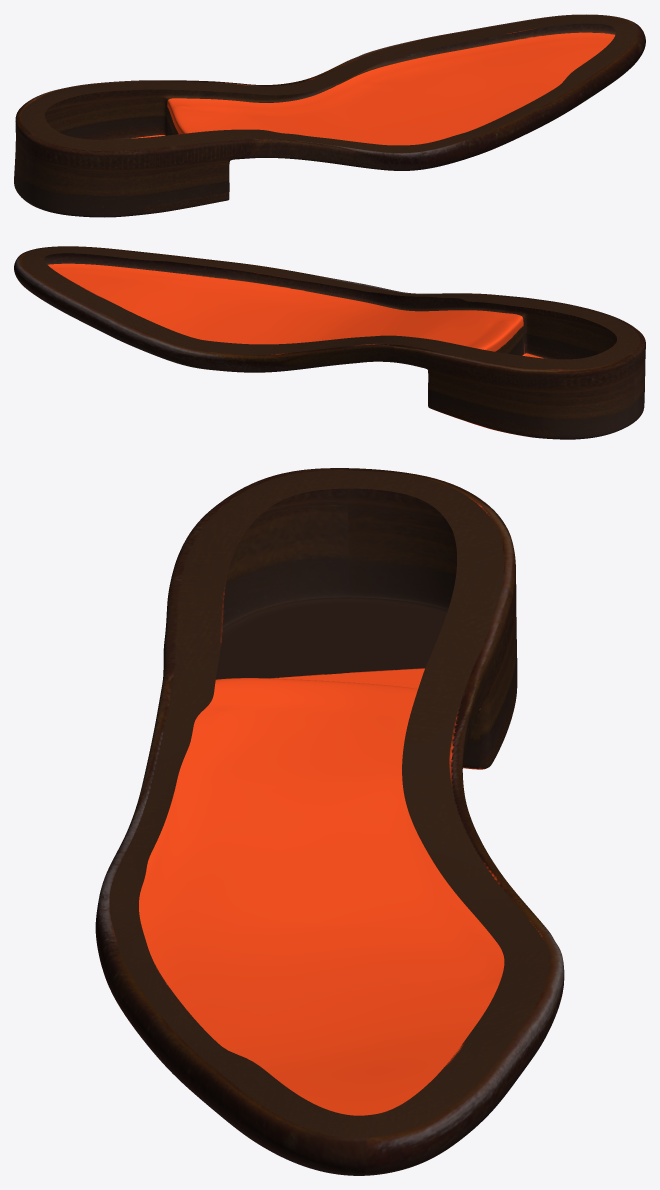
Rendered from mccr17736_fondo_smussato.glb.
The picture shows the model from 3 angles, top to bottom: view 1: azimuth 30°, elevation 25°; view 2: azimuth 150°, elevation 25°; view 3: azimuth 270°, elevation 25°; orthographic projection. The views are drawn at different scales.
Parts seen in each view (by area): view 1: fondo; view 2: fondo; view 3: fondo.
Part boxes in pixels (left/top/right/bottom): fondo: left=14, top=14, right=645, bottom=217; fondo: left=14, top=246, right=645, bottom=439; fondo: left=95, top=468, right=564, bottom=1175.
Bounding box in the file's own units: 306 × 36.75 × 101.
Materials: 1 (1 with a texture image).
